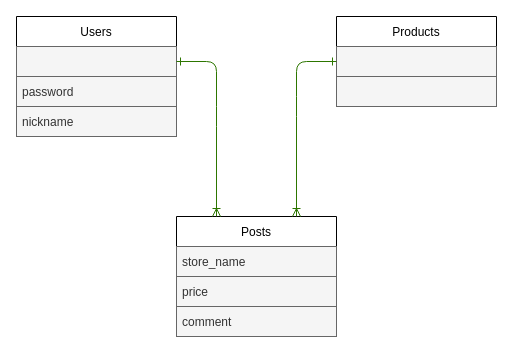
The diagram is 513 pixels wide and 353 high, and some of its shapes have lost their labels. Each missing label, with the centre of its shape:
category_id: [416,91]
email: [96,61]
product_name: [416,61]
